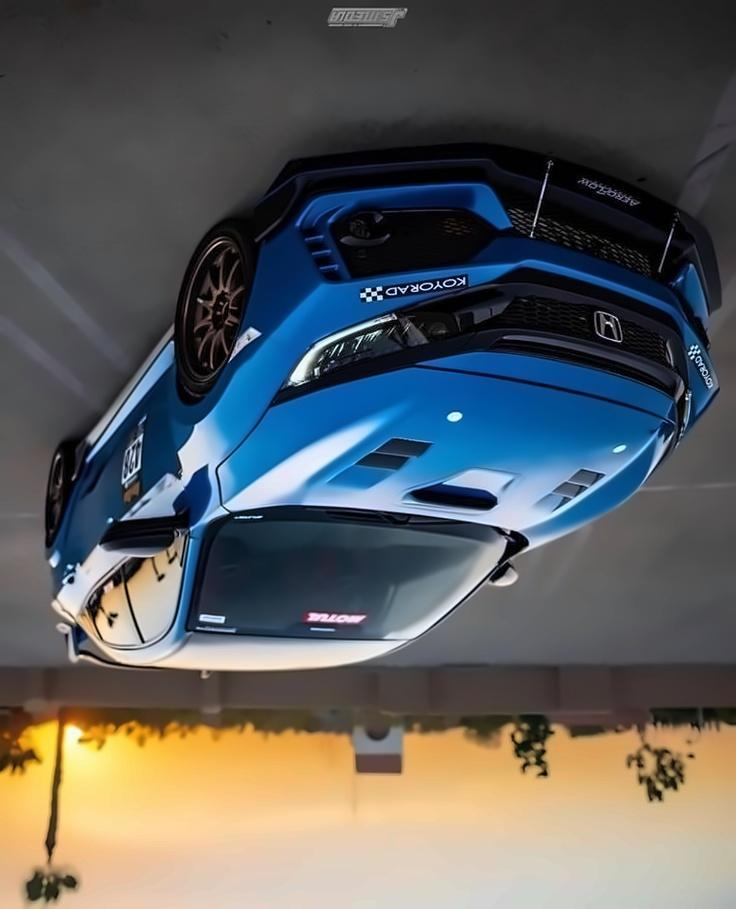Car hood: (209, 349, 678, 559)
Fender - -F-L-: (154, 238, 302, 590)
Front bumper: (239, 134, 734, 391)
Headlight - -L-: (272, 292, 502, 403)
Passenger-s door - -F-L-: (114, 269, 196, 684)
Passenger-s door - -R-L-: (65, 370, 149, 671)
Side bumper - -L-: (78, 292, 190, 490)
Side mirror - -L-: (99, 512, 186, 565)
